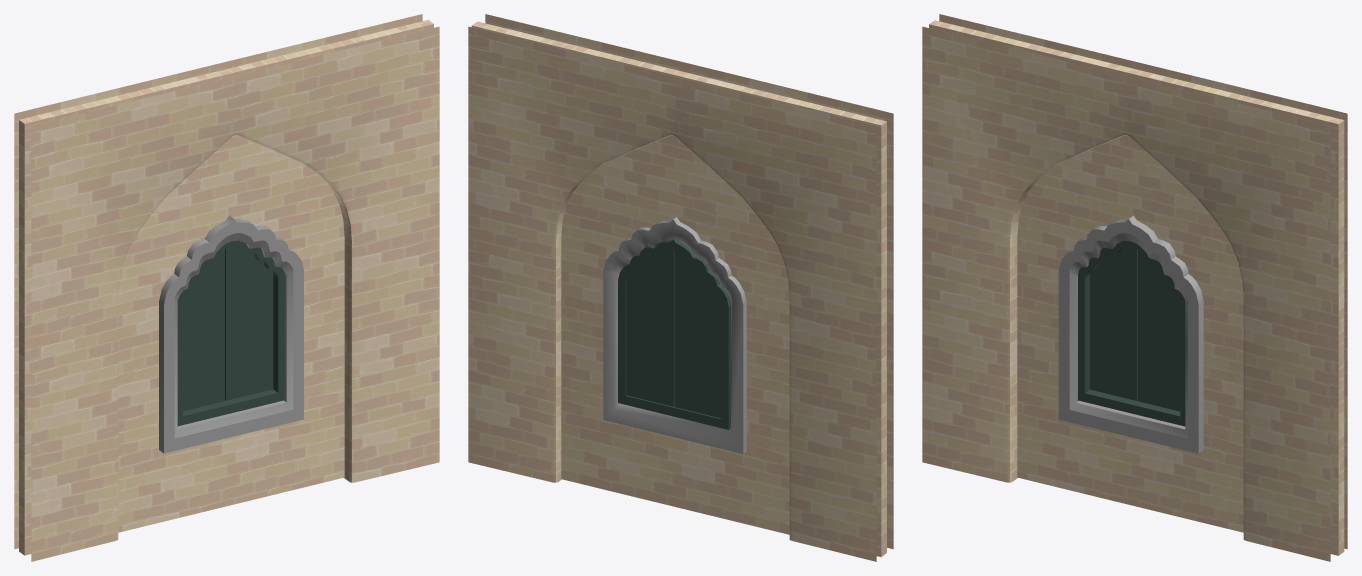
Rendered from SM_wall_window_01.fbx.
3 views of the same model, side by side, from view 1: azimuth 30°, elevation 25°; view 2: azimuth 150°, elevation 25°; view 3: azimuth 330°, elevation 25° (orthographic).
Parts seen in each view (by area): view 1: Object33070; view 2: Object33070; view 3: Object33070.
Part boxes in pixels (x1,y1,x2,y2): Object33070: (14,14,439,561); Object33070: (468,14,893,561); Object33070: (922,14,1347,561).
Bounding box in the file's own units: 169 × 172 × 12.28.
